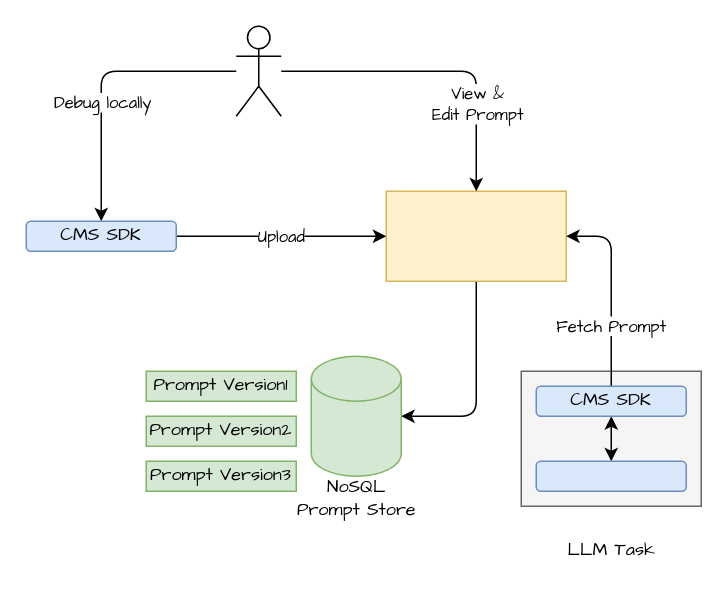
Some shapes in this 728 by 600 pixel diagram are drawn without their labels. The centre of each missing label's shape, as x and y in pixels:
"CMS" goes at point 475,235.
"LLM SDK" goes at point 610,475.
"Prompt Engineer" goes at point 258,70.
